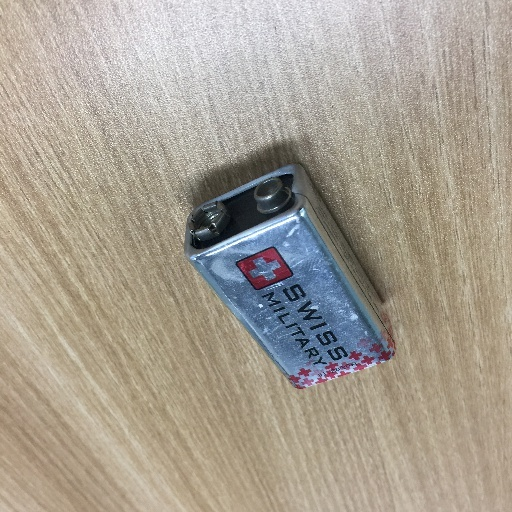Battery_3: (168, 151, 418, 415)
